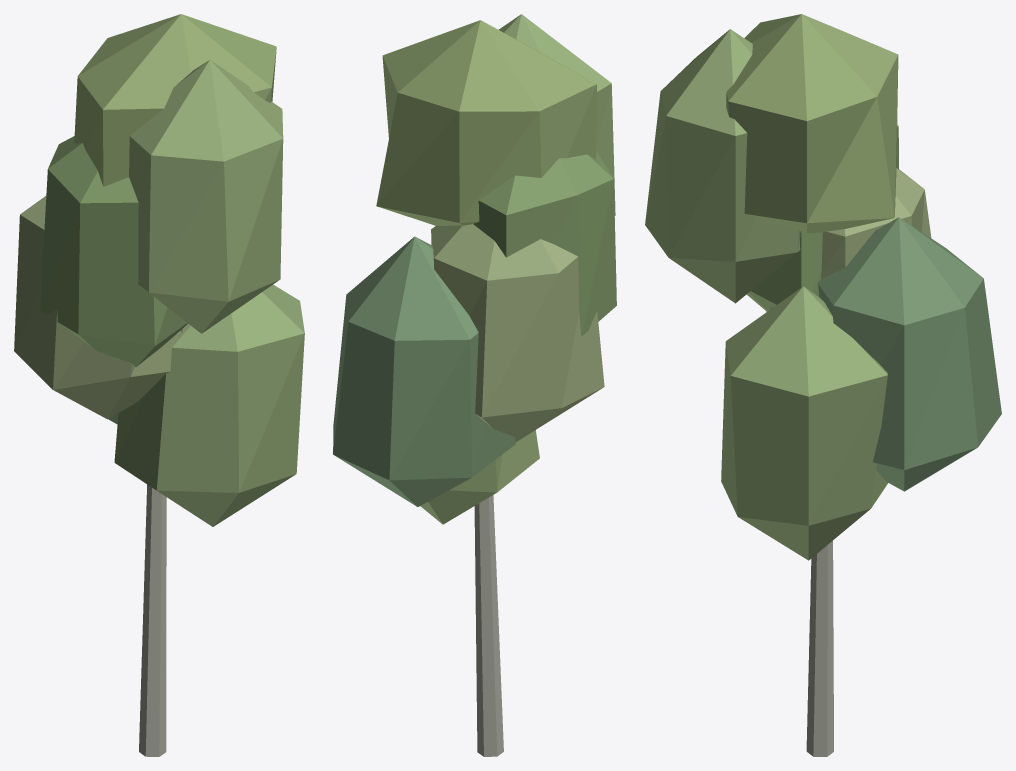
3 views of the same model, side by side, from view 1: azimuth 30°, elevation 25°; view 2: azimuth 150°, elevation 25°; view 3: azimuth 270°, elevation 25° (orthographic). The views are drawn at different scales.
Bounding box in the file's own units: 5.5 × 15.56 × 6.73.
